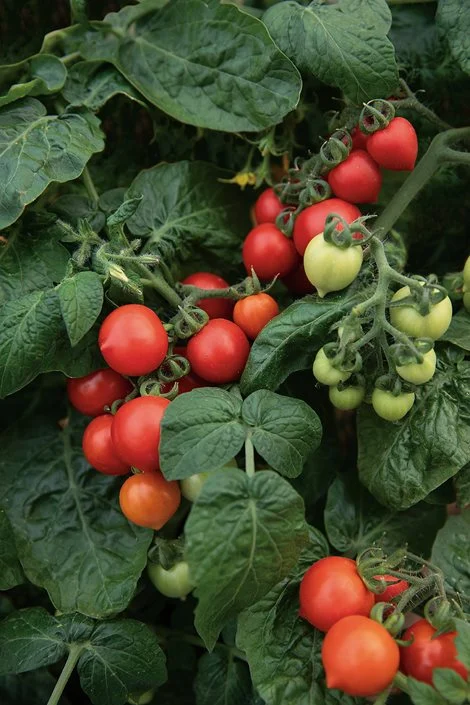tomato: (109, 300, 176, 378)
